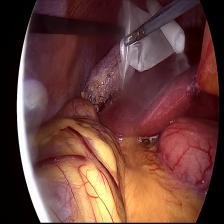Grasper: (123, 24, 149, 50)
Specimen Bag: (114, 2, 188, 90)
